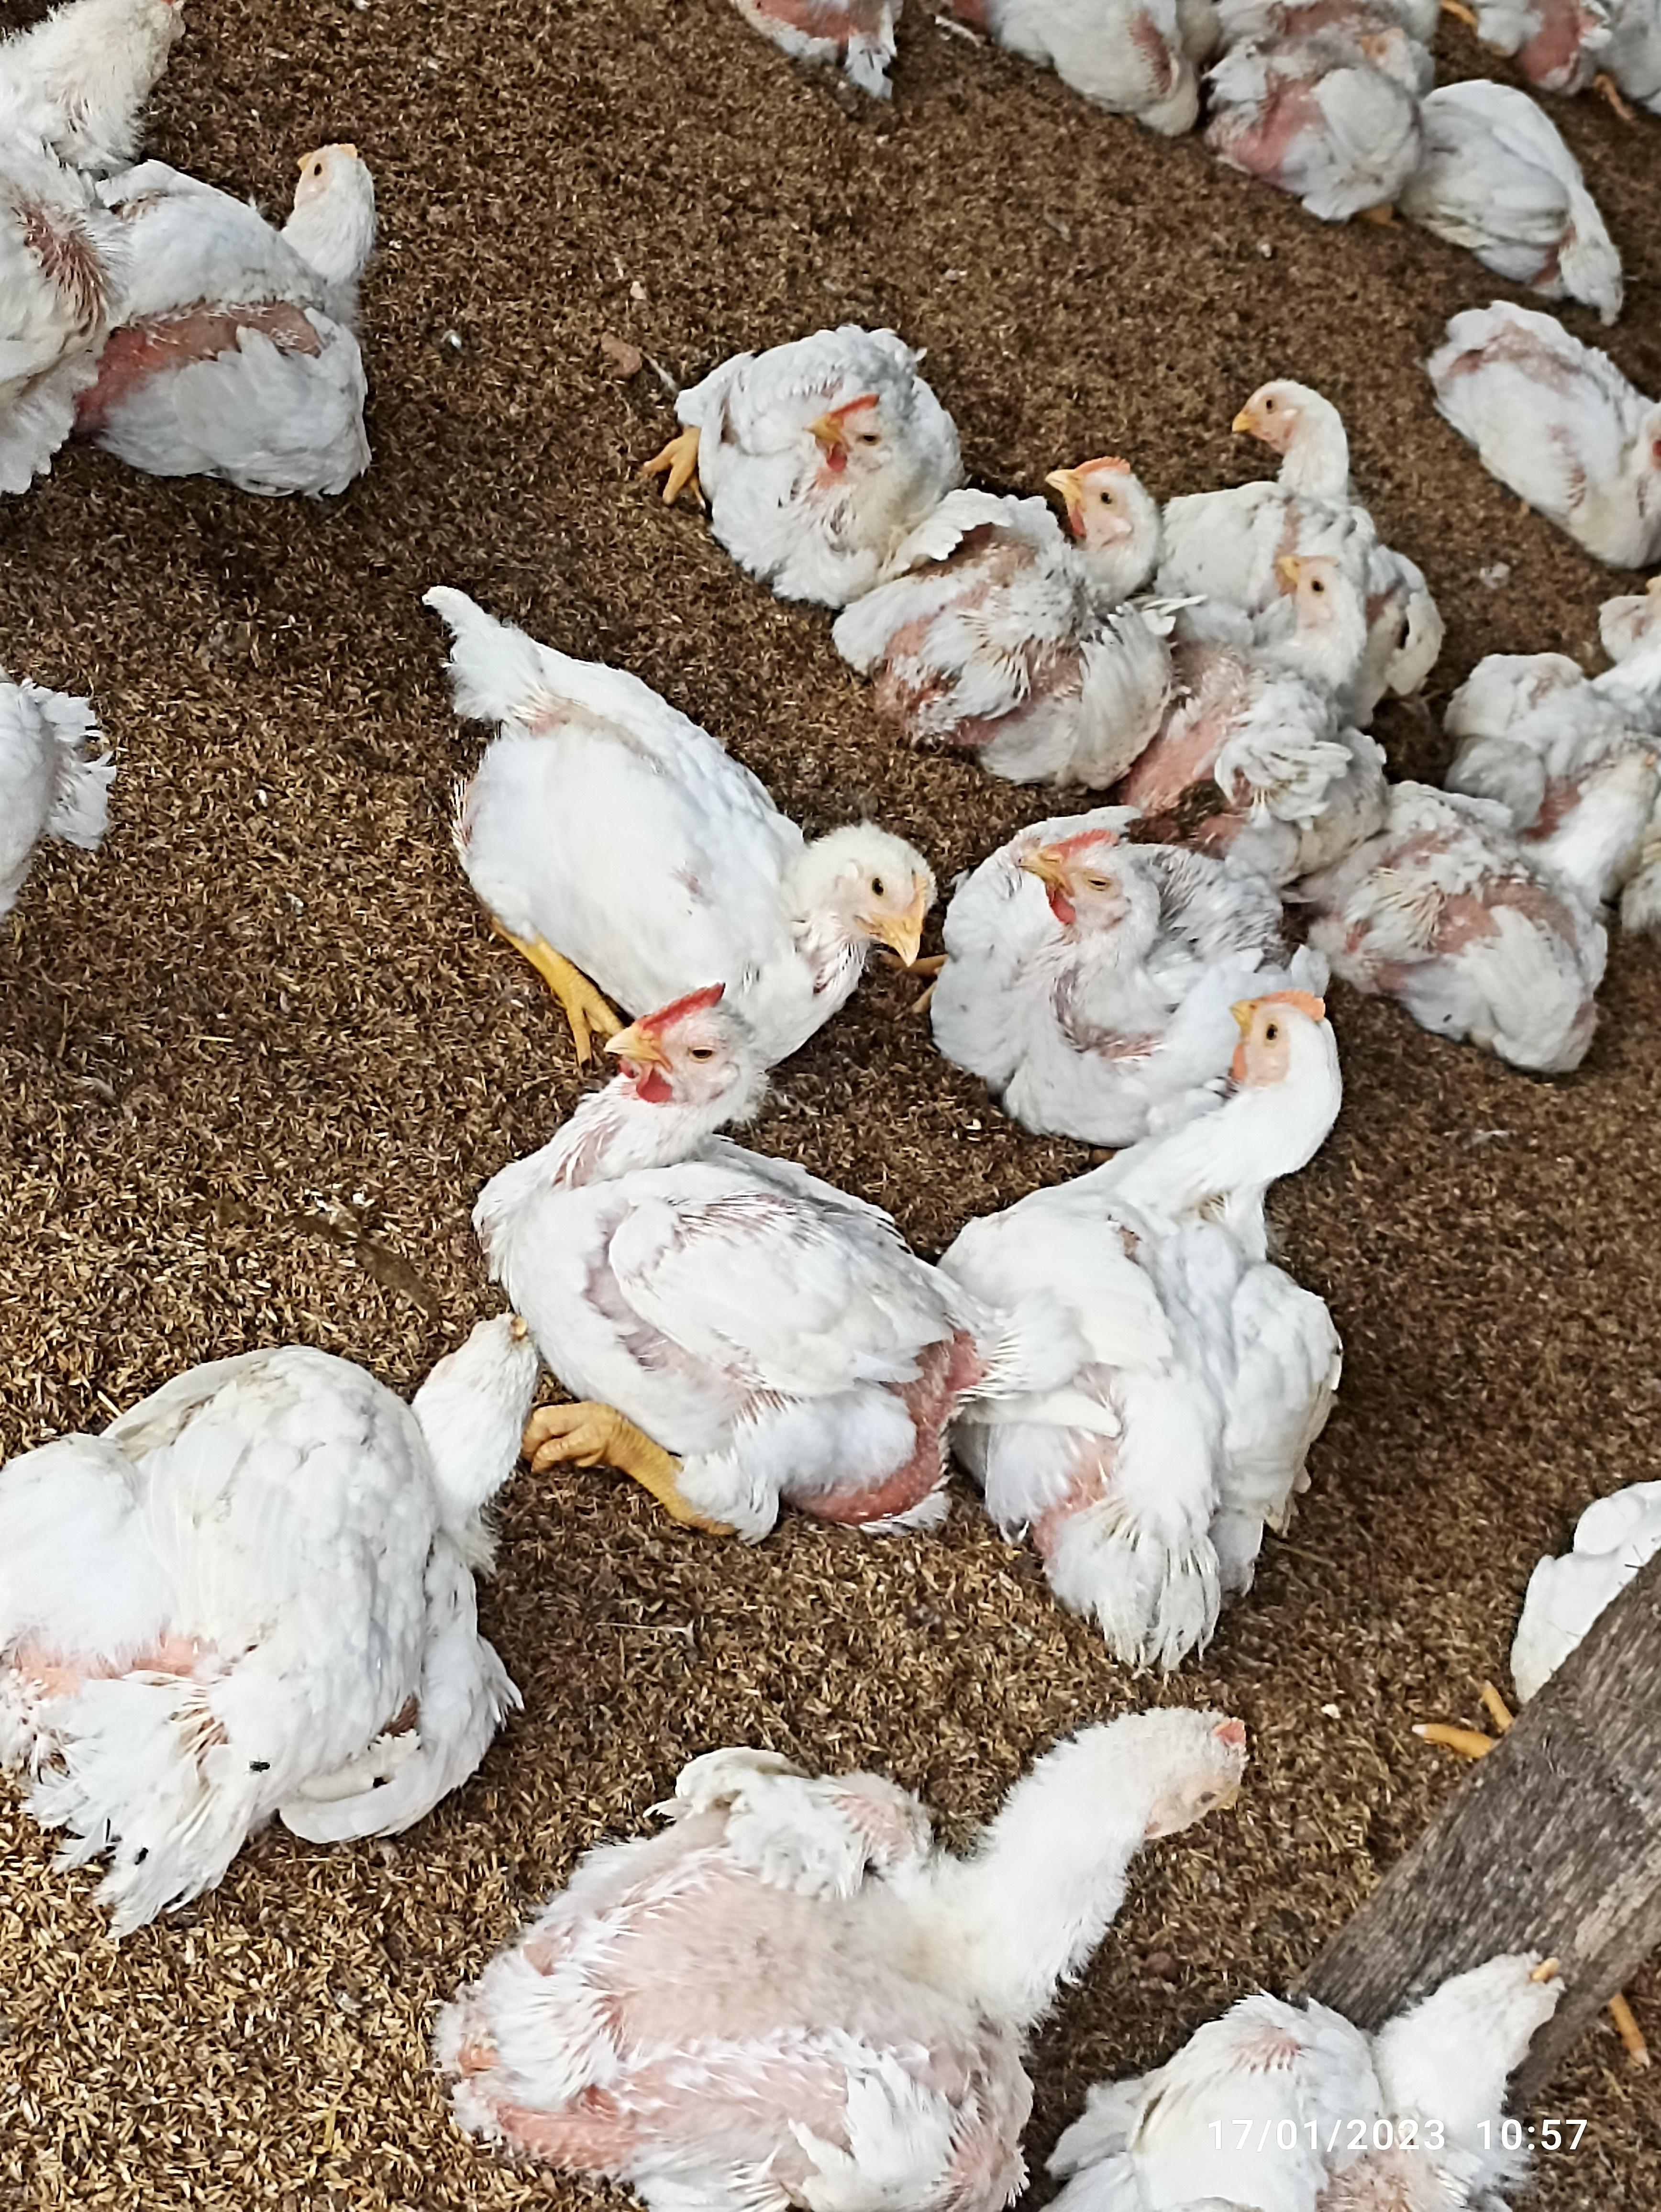Pollos: (468, 1706, 1244, 2195), (0, 1282, 544, 1901), (946, 1001, 1347, 1652), (504, 987, 811, 1413), (537, 684, 919, 991), (1331, 745, 1661, 1073), (89, 138, 377, 506), (899, 452, 1155, 741), (981, 823, 1242, 1103), (1347, 68, 1631, 324), (663, 314, 930, 563), (1162, 546, 1361, 850), (1209, 372, 1391, 539)
